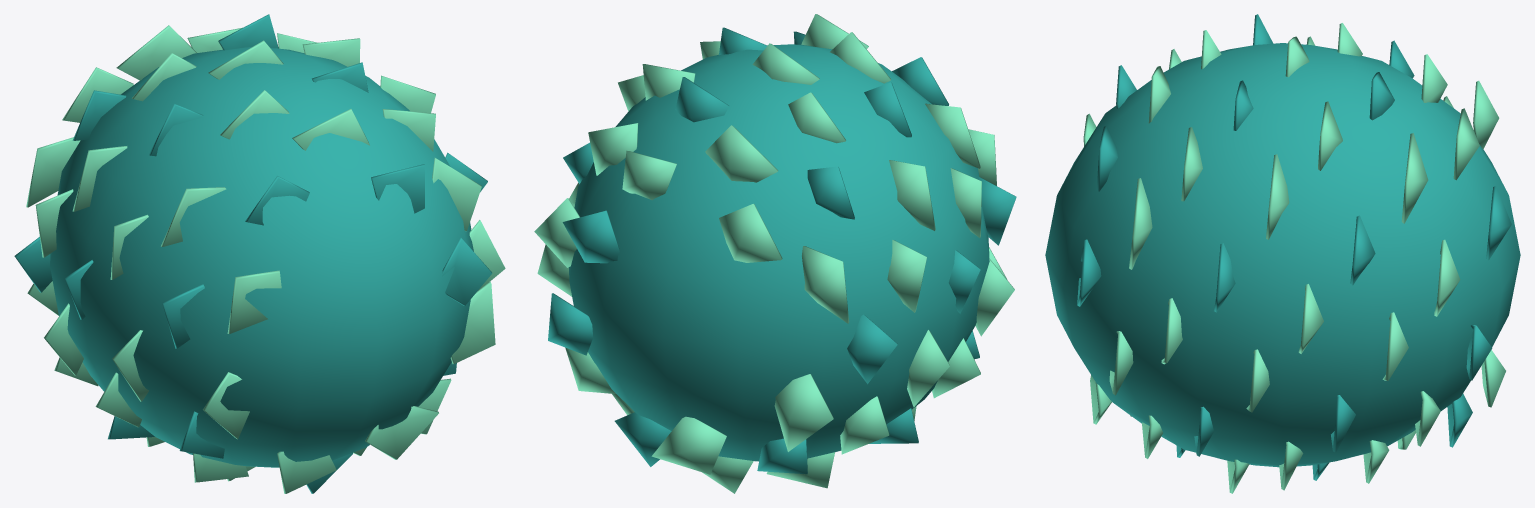
File: RoomFoliage_Premium.fbx
The picture shows the model from 3 angles, left to right: view 1: azimuth 30°, elevation 25°; view 2: azimuth 150°, elevation 25°; view 3: azimuth 270°, elevation 25°; orthographic projection. The views are drawn at different scales.
Parts seen in each view (by area): view 1: RoomFoliage_Premium; view 2: RoomFoliage_Premium; view 3: RoomFoliage_Premium.
Boxes of the visible parts, x1=… form: RoomFoliage_Premium: x1=14, y1=14, x2=505, y2=493; RoomFoliage_Premium: x1=534, y1=14, x2=1016, y2=493; RoomFoliage_Premium: x1=1045, y1=14, x2=1520, y2=493.
Size of the model in its own units: 1 by 1 by 1.
